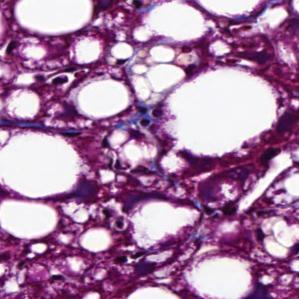inflammation: (112, 242, 166, 283), (130, 99, 171, 144), (31, 63, 79, 96)
